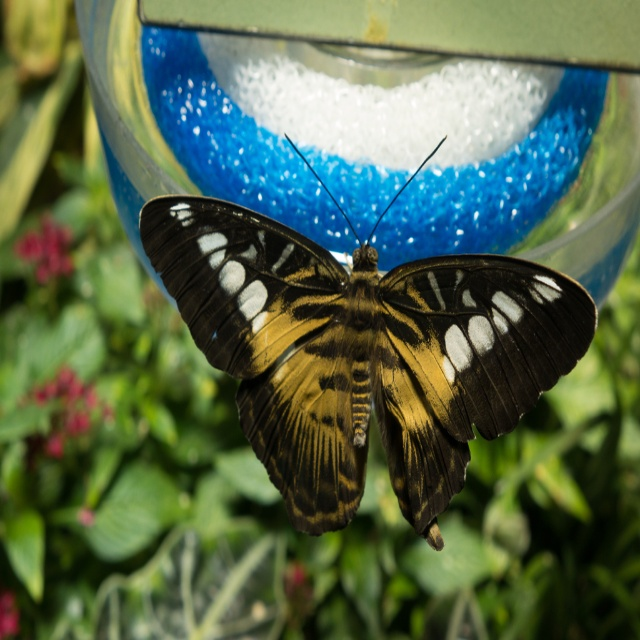Moths and butterflies: (138, 129, 600, 551)
